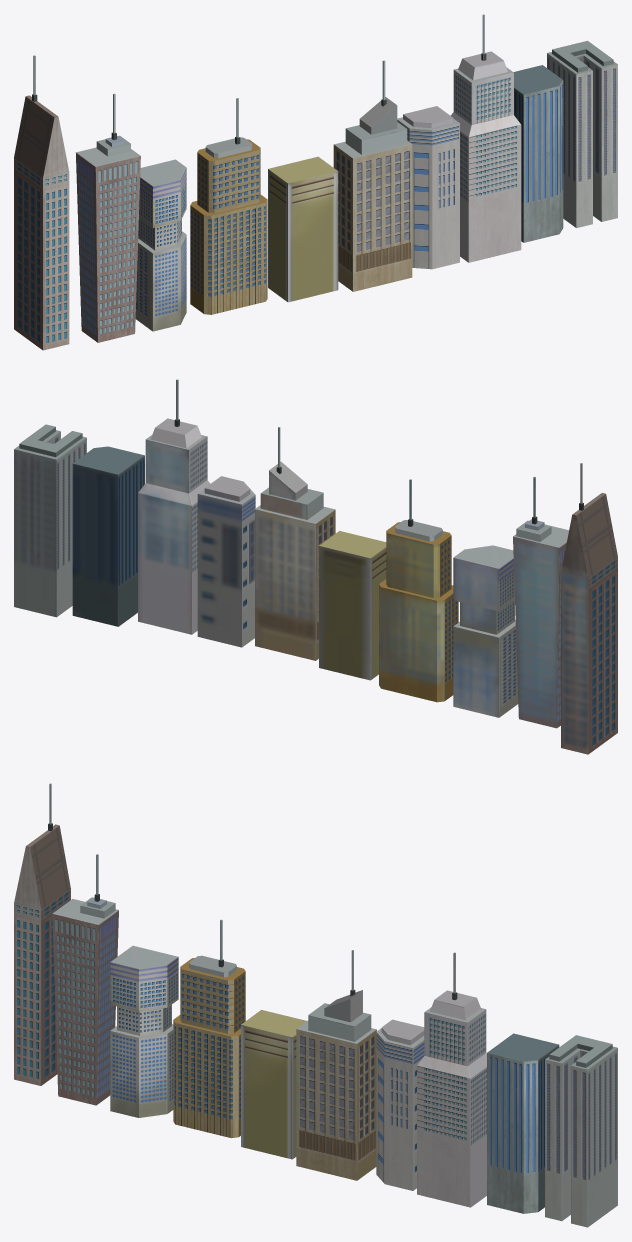
File: SM_ENV_LKNVLD_KaoiwaFront_A.FBX
3 views of the same model, one above another, from view 1: azimuth 30°, elevation 25°; view 2: azimuth 150°, elevation 25°; view 3: azimuth 330°, elevation 25° (orthographic). The views are drawn at different scales.
Parts seen in each view (by area): view 1: SM_ENV_LKNVLD_KaoiwaFront_A; view 2: SM_ENV_LKNVLD_KaoiwaFront_A; view 3: SM_ENV_LKNVLD_KaoiwaFront_A.
Part boxes in pixels (left/top/right/bottom): SM_ENV_LKNVLD_KaoiwaFront_A: left=14, top=14, right=617, bottom=350; SM_ENV_LKNVLD_KaoiwaFront_A: left=14, top=379, right=617, bottom=754; SM_ENV_LKNVLD_KaoiwaFront_A: left=14, top=783, right=617, bottom=1227.
Bounding box in the file's own units: 42248 × 19602 × 6008.
